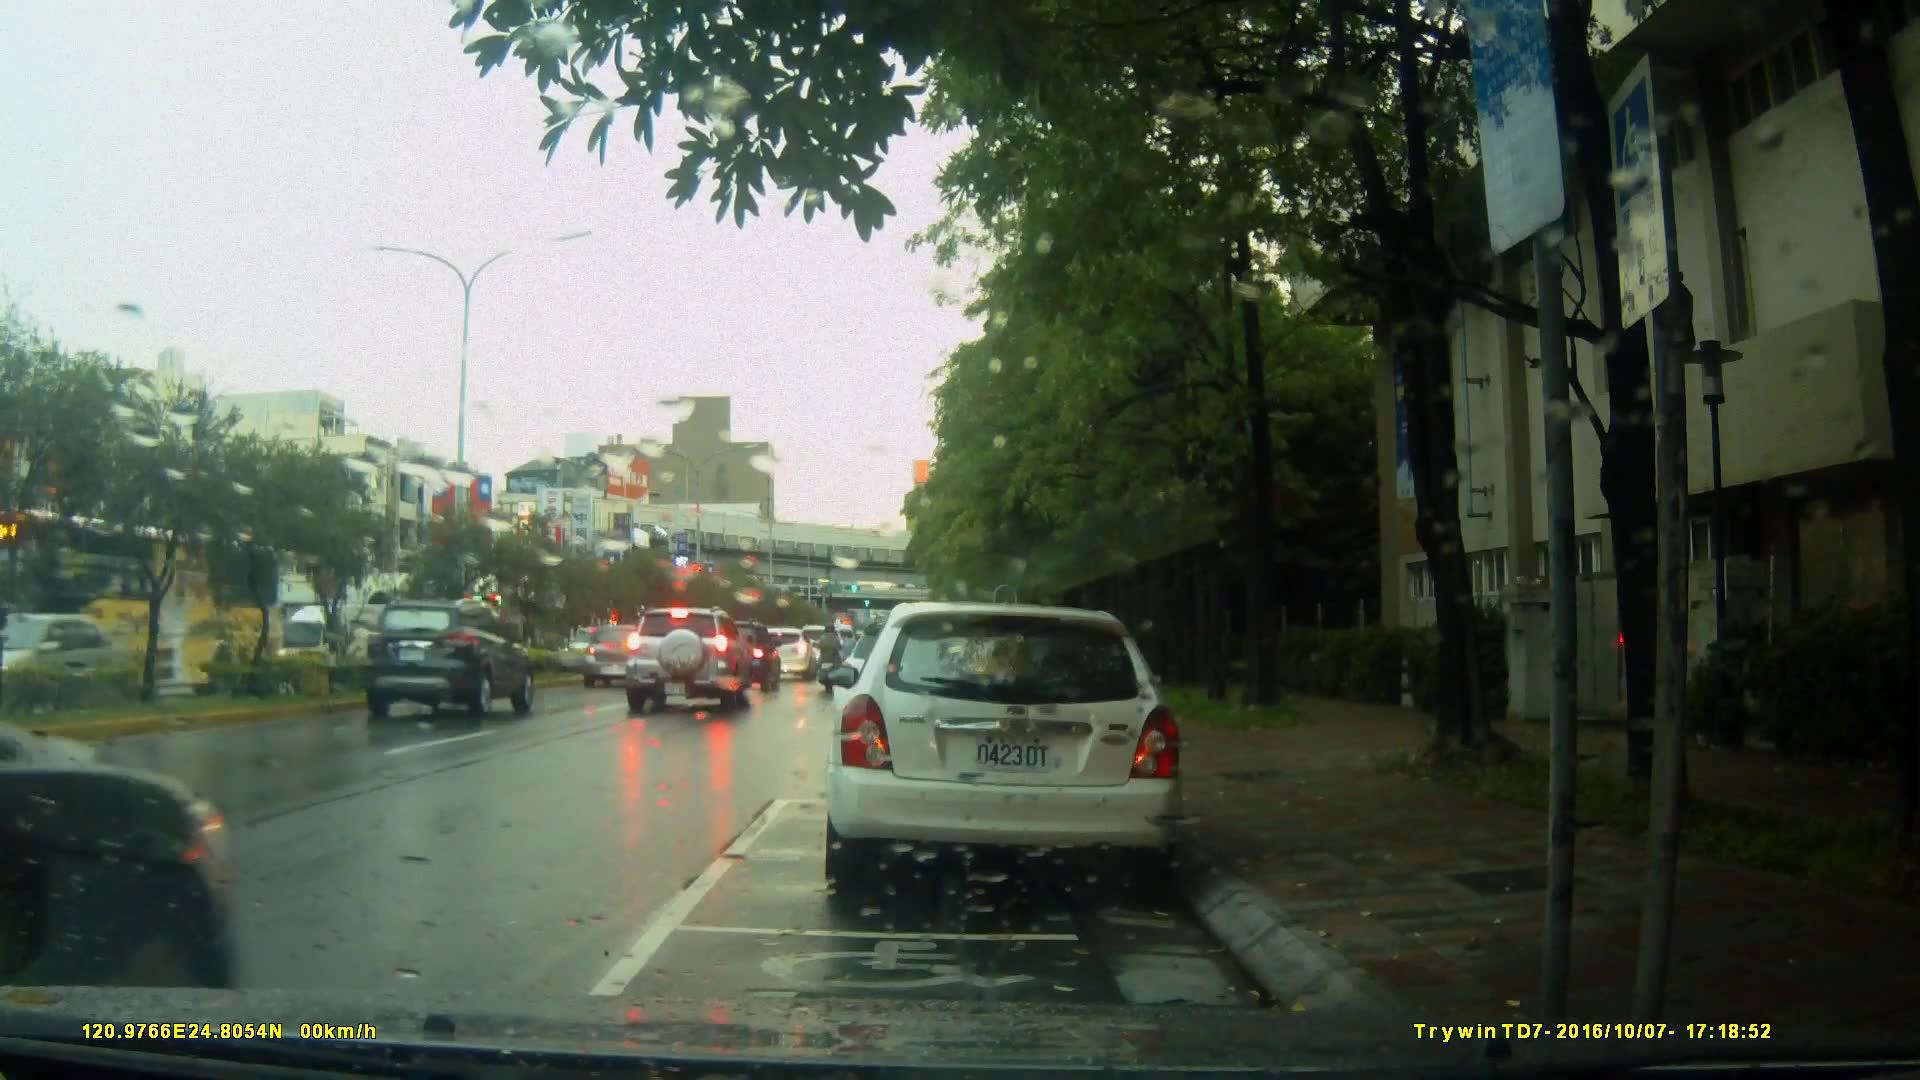rider: (812, 621, 848, 702)
vehicle: (1, 503, 239, 987), (820, 602, 1188, 898), (2, 528, 306, 686), (360, 594, 538, 719), (620, 605, 751, 718)
